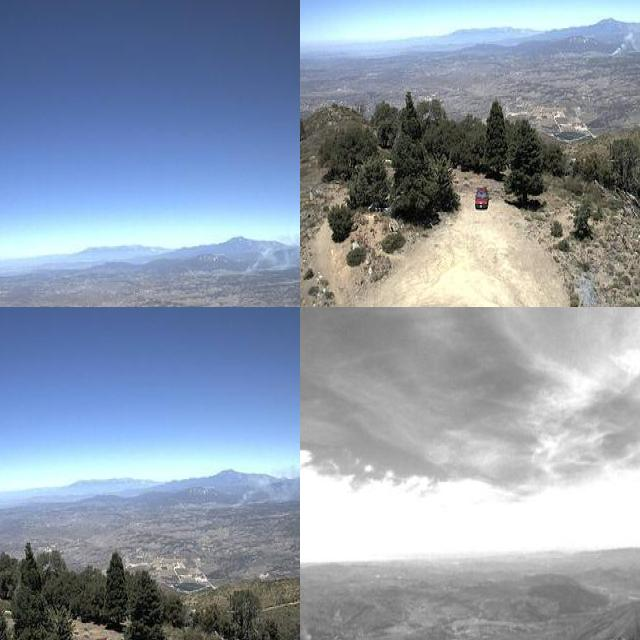smoke: (226, 227, 300, 279), (226, 460, 300, 512), (605, 22, 640, 54), (300, 592, 314, 640)
